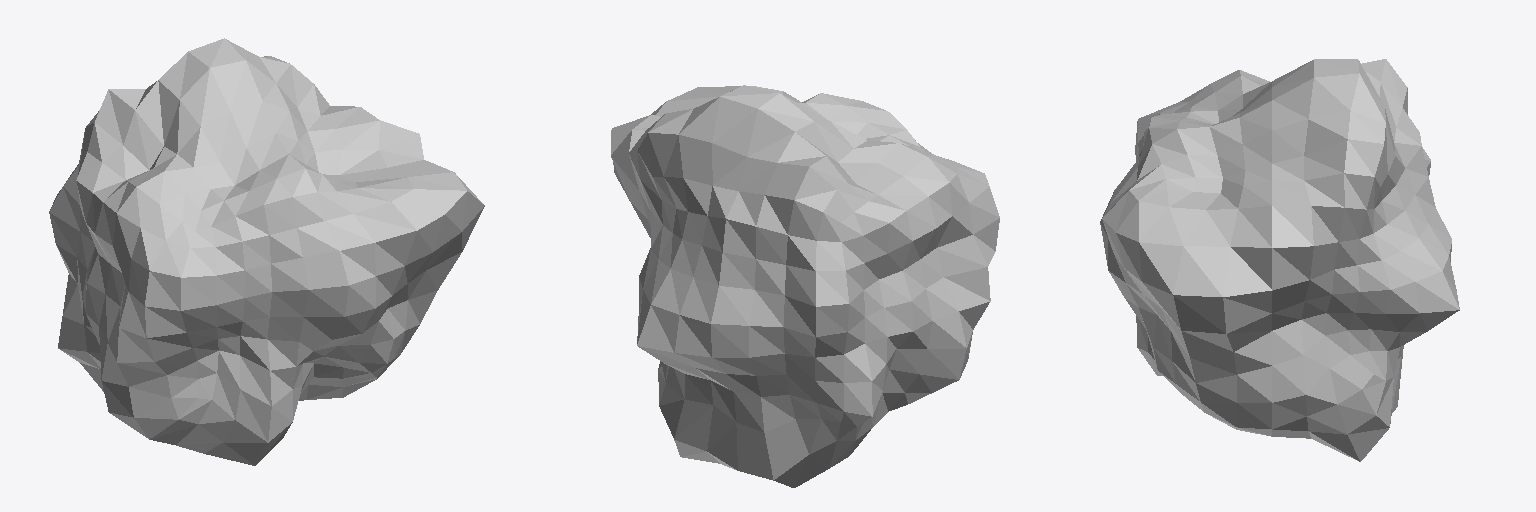
Rendered from Rocks3.obj.
The picture shows the model from 3 angles: view 1: azimuth 30°, elevation 25°; view 2: azimuth 150°, elevation 25°; view 3: azimuth 270°, elevation 25°; orthographic projection.
Parts seen in each view (by area): view 1: Cube; view 2: Cube; view 3: Cube.
Boxes of the visible parts, box(x1,y1,x2,y2) form: Cube: box(49, 38, 484, 465); Cube: box(611, 85, 999, 487); Cube: box(1100, 59, 1459, 461).
Size of the model in its own units: 4.26 by 4.21 by 3.68.